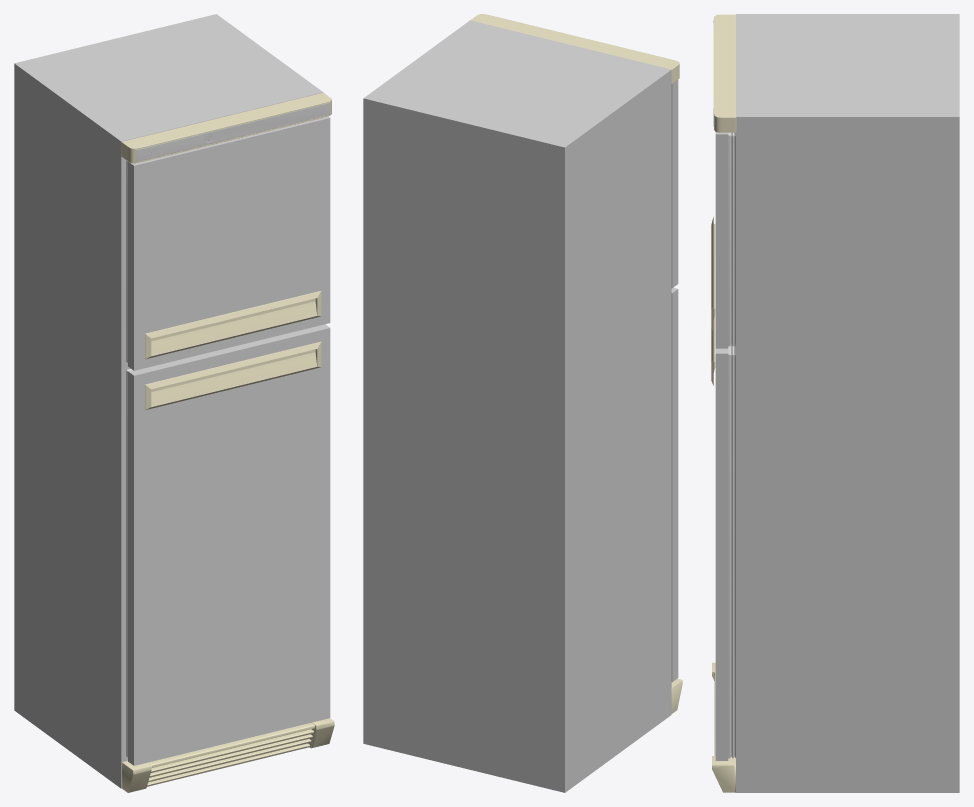
The model's file is Stinol.FBX.
3 views of the same model, side by side, from view 1: azimuth 30°, elevation 25°; view 2: azimuth 150°, elevation 25°; view 3: azimuth 270°, elevation 25° (orthographic). The views are drawn at different scales.
Visible parts, largest first — view 1: Куб, Куб.001, Куб.002, Lattice, Handle_Refrigerator, Handle_Freezer, Base_Panel, Panel, Elastic_Doors; view 2: Куб, Куб.001, Base_Panel, Куб.002; view 3: Куб, Куб.001, Elastic_Doors, Куб.002, Base_Panel, Lattice, Handle_Freezer.
Boxes of the visible parts, bbox=[...] form: Куб: bbox=[14, 14, 323, 788]; Куб.001: bbox=[128, 324, 330, 765]; Куб.002: bbox=[128, 116, 330, 370]; Lattice: bbox=[121, 718, 334, 792]; Handle_Refrigerator: bbox=[145, 341, 321, 410]; Handle_Freezer: bbox=[145, 291, 321, 359]; Base_Panel: bbox=[121, 92, 331, 163]; Panel: bbox=[135, 102, 330, 161]; Elastic_Doors: bbox=[126, 160, 132, 757]; Куб: bbox=[363, 20, 671, 792]; Куб.001: bbox=[671, 287, 678, 682]; Base_Panel: bbox=[470, 14, 679, 83]; Куб.002: bbox=[671, 80, 678, 288]; Куб: bbox=[736, 14, 959, 792]; Куб.001: bbox=[715, 348, 728, 760]; Elastic_Doors: bbox=[728, 132, 735, 758]; Куб.002: bbox=[715, 132, 728, 348]; Base_Panel: bbox=[713, 14, 736, 132]; Lattice: bbox=[712, 662, 735, 792]; Handle_Freezer: bbox=[711, 217, 715, 332].
Size of the model in its own units: 60.25 by 184 by 61.24.
